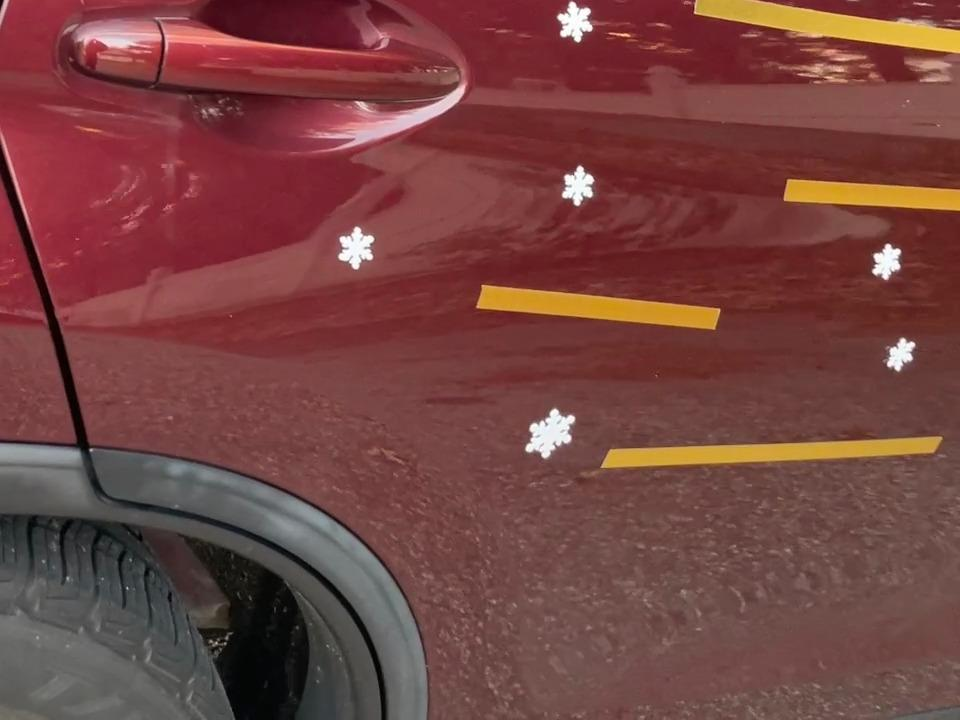dent: (519, 401, 579, 465), (333, 215, 385, 275), (557, 157, 605, 218), (548, 0, 602, 49), (865, 235, 914, 278), (877, 335, 921, 375)
scratch: (469, 263, 734, 347), (680, 0, 960, 66), (603, 429, 955, 475), (773, 163, 960, 227)
